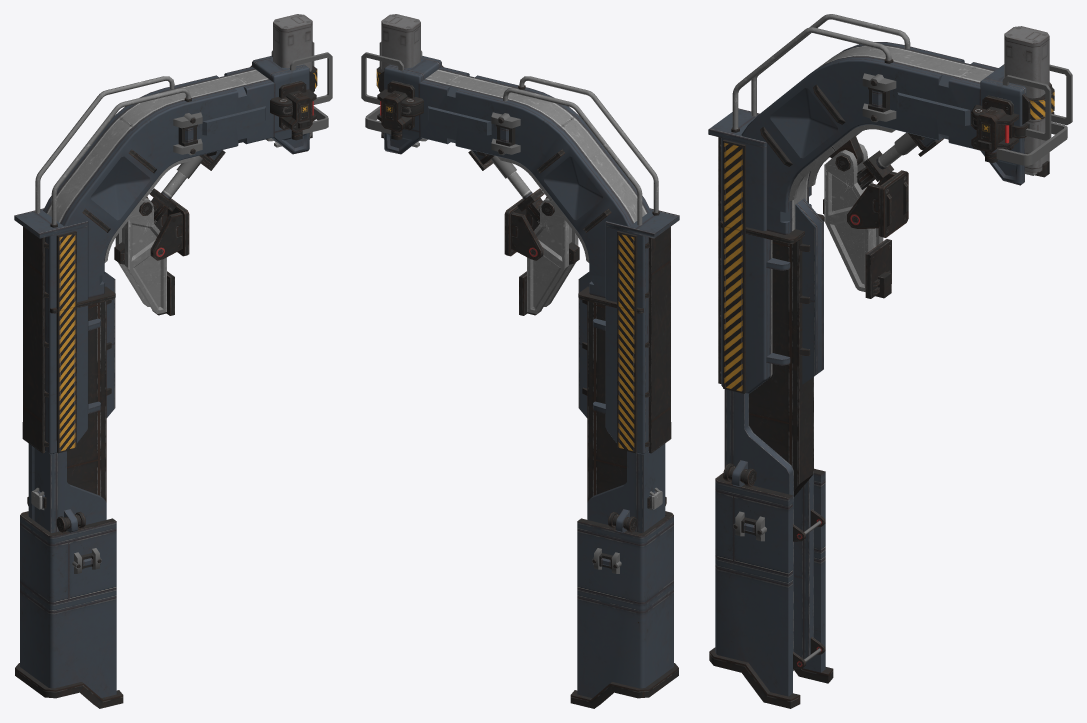
The model's file is Crane_2B_L1.fbx.
3 renders of one model, left to right at view 1: azimuth 30°, elevation 25°; view 2: azimuth 150°, elevation 25°; view 3: azimuth 330°, elevation 25°, orthographic. The views are drawn at different scales.
Parts seen in each view (by area): view 1: Crane_2B_L1; view 2: Crane_2B_L1; view 3: Crane_2B_L1.
Boxes of the visible parts, bbox=[...] form: Crane_2B_L1: bbox=[14, 14, 332, 708]; Crane_2B_L1: bbox=[361, 14, 679, 708]; Crane_2B_L1: bbox=[708, 14, 1072, 708].
Bounding box in the file's own units: 369 × 741 × 105.
